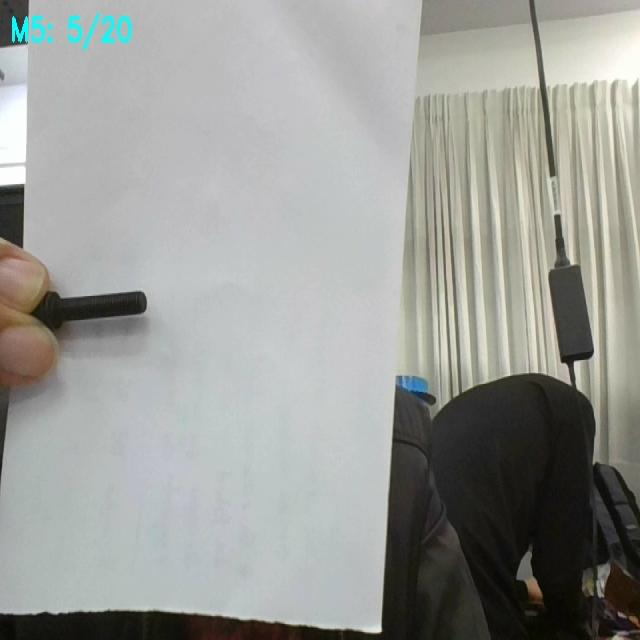vastago: (62, 291, 146, 320)
